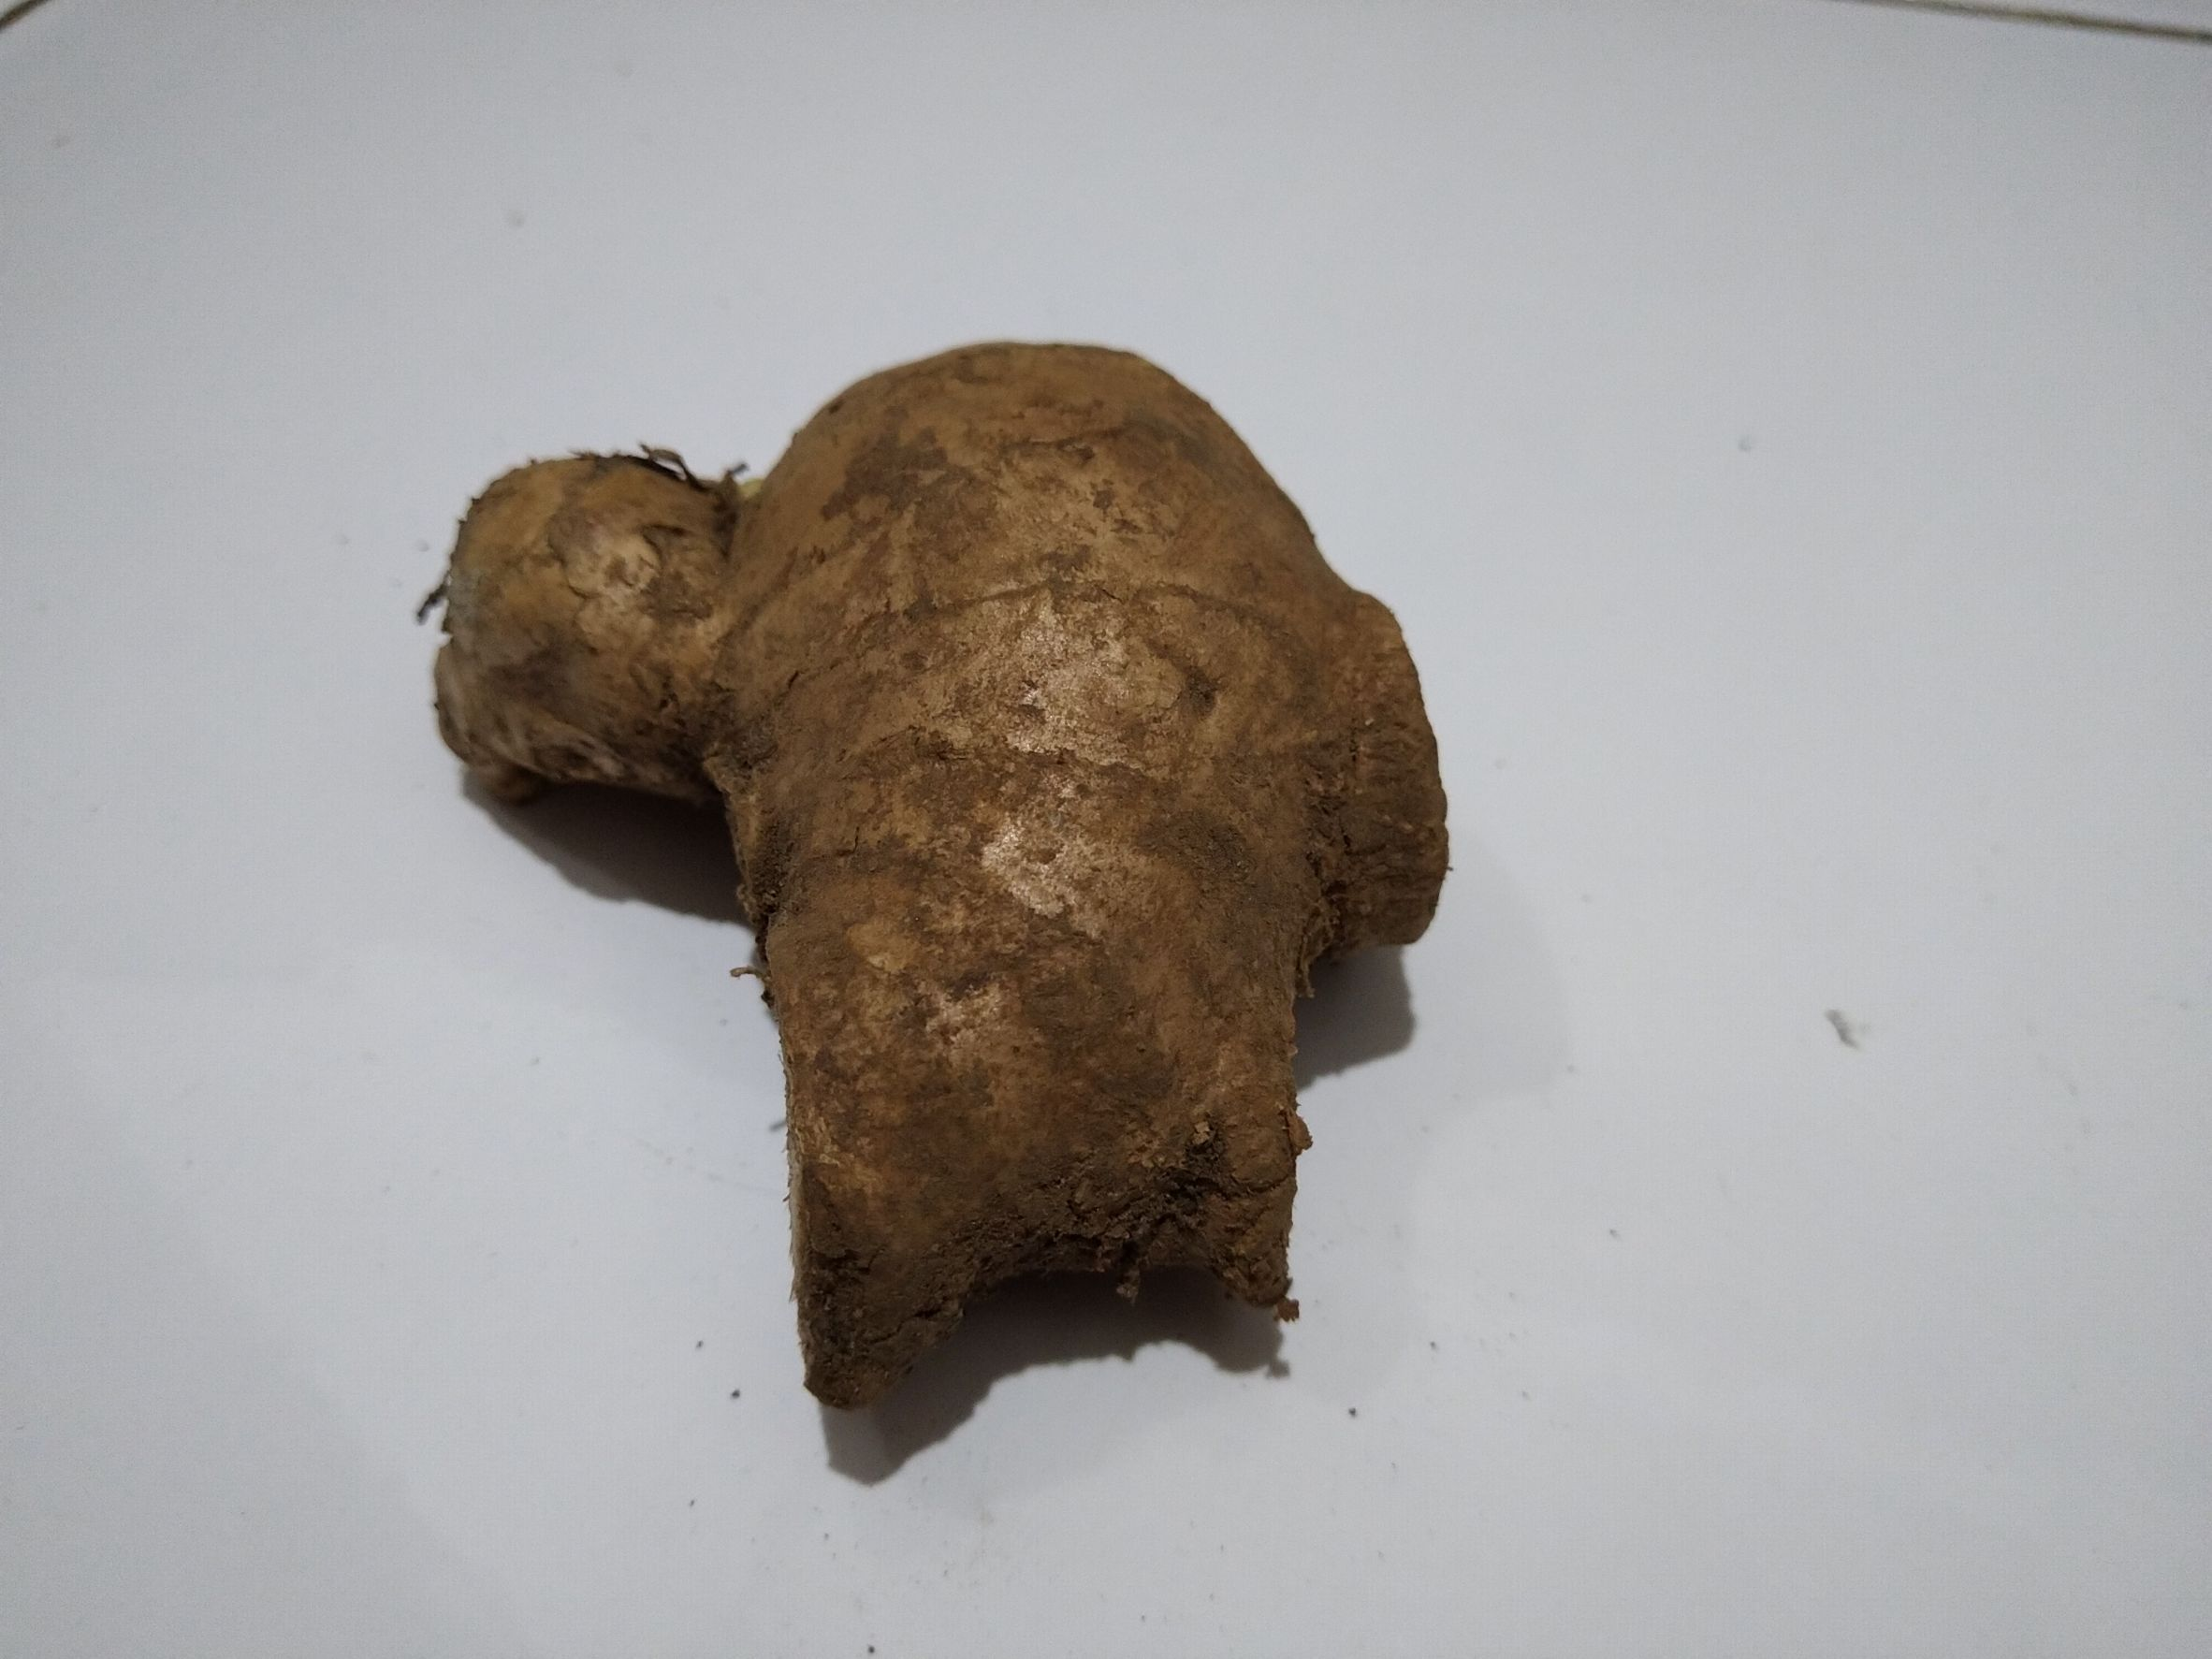Jahe: (448, 349, 1449, 1455)
